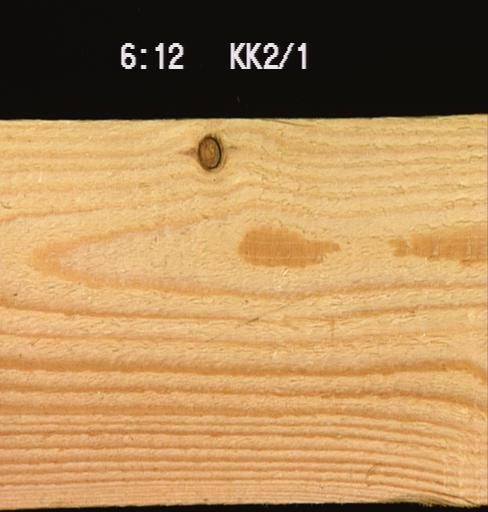dry_knot: (195, 132, 222, 169)
split: (263, 115, 321, 126)
wave: (370, 495, 487, 508)
